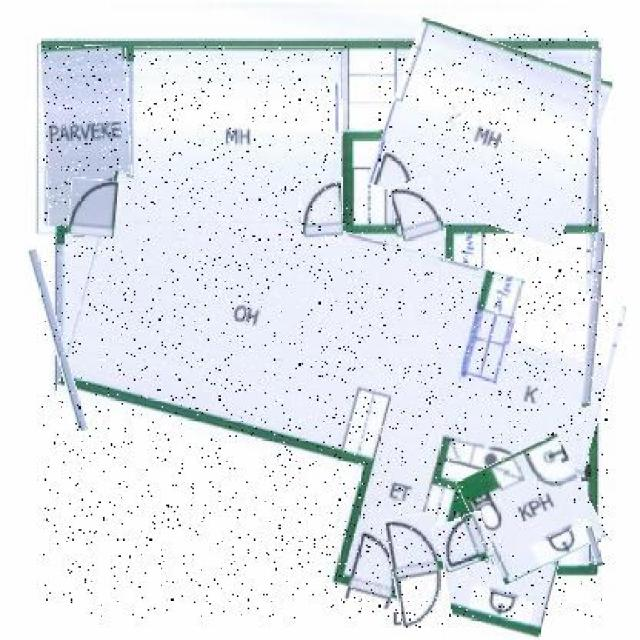door: (388, 516, 448, 630), (394, 180, 443, 245), (434, 516, 491, 570), (70, 177, 119, 237), (300, 177, 343, 238)
window: (41, 248, 76, 432), (586, 234, 602, 409), (586, 48, 599, 226), (589, 526, 600, 566)
zone: (43, 203, 608, 619), (378, 31, 602, 232), (135, 46, 348, 223), (466, 443, 597, 575), (43, 46, 131, 225)
